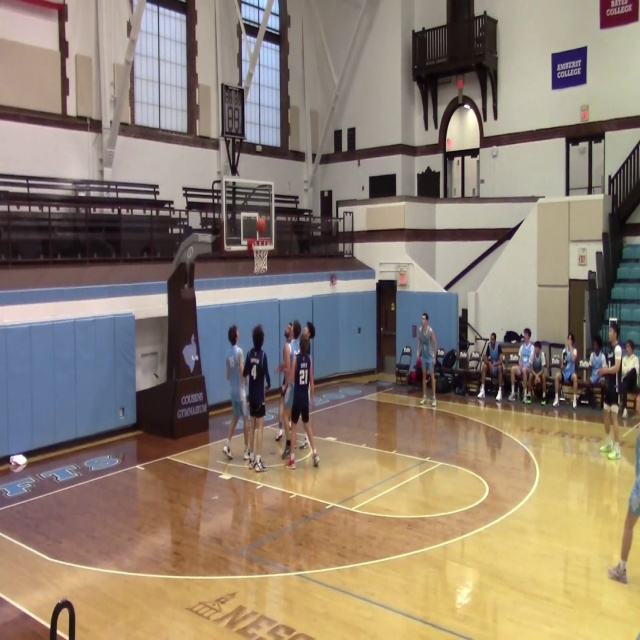Basketball: (9, 454, 27, 473), (10, 454, 27, 466), (256, 218, 266, 232), (600, 442, 613, 452), (608, 449, 620, 459)
